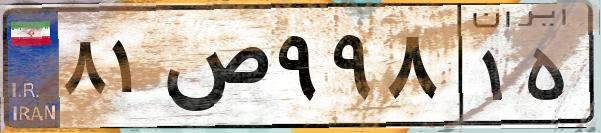1: (475, 38, 525, 113), (110, 28, 158, 98)
5: (525, 38, 570, 115)
8: (385, 28, 445, 110), (57, 26, 110, 100)
9: (270, 28, 330, 110), (330, 28, 385, 110)
ص: (158, 20, 270, 120)
